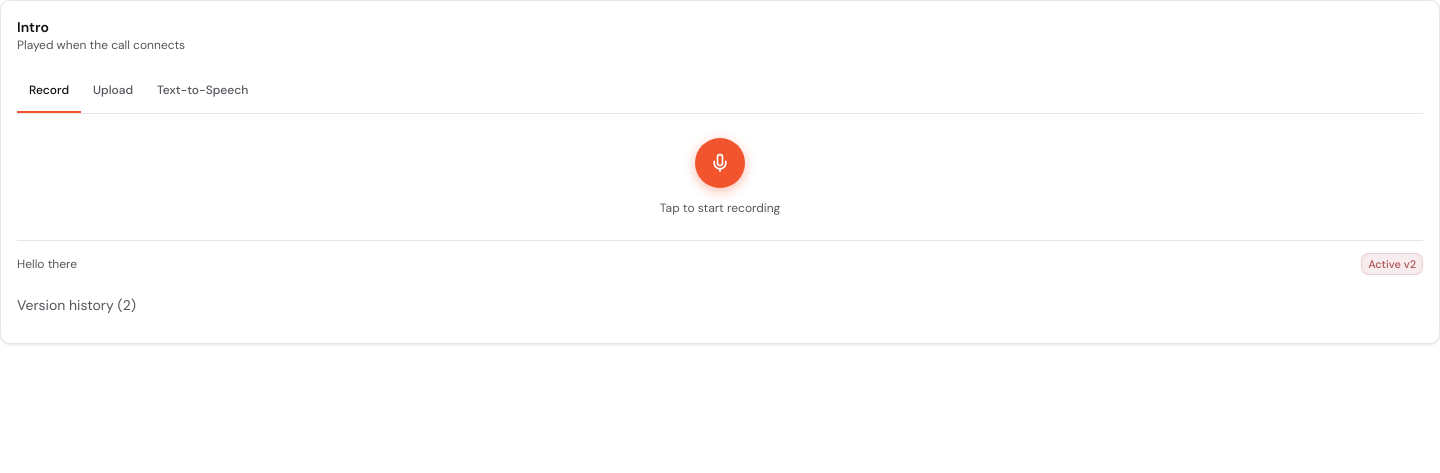
Scenario: AudioSlotCard — live campaign › reports the server's own reason when activation is refused
The width and height of the screenshot is (1440, 473).
Click the button "Version history (2)" at (76, 305), box [17,283,136,327]
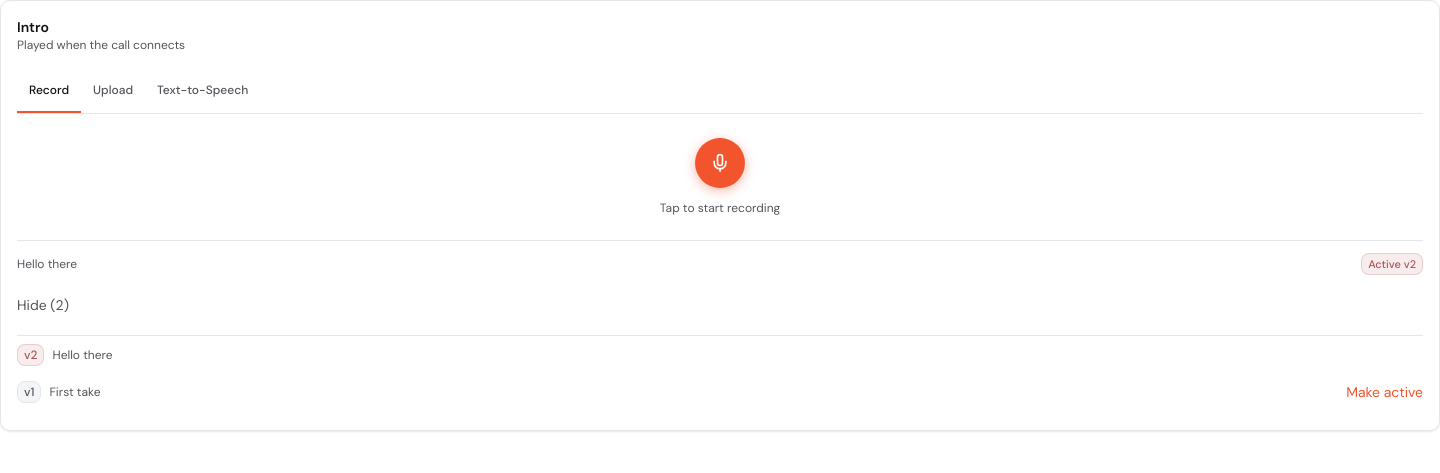
Click the button "Make active" at (1385, 392), box [1346,370,1423,414]
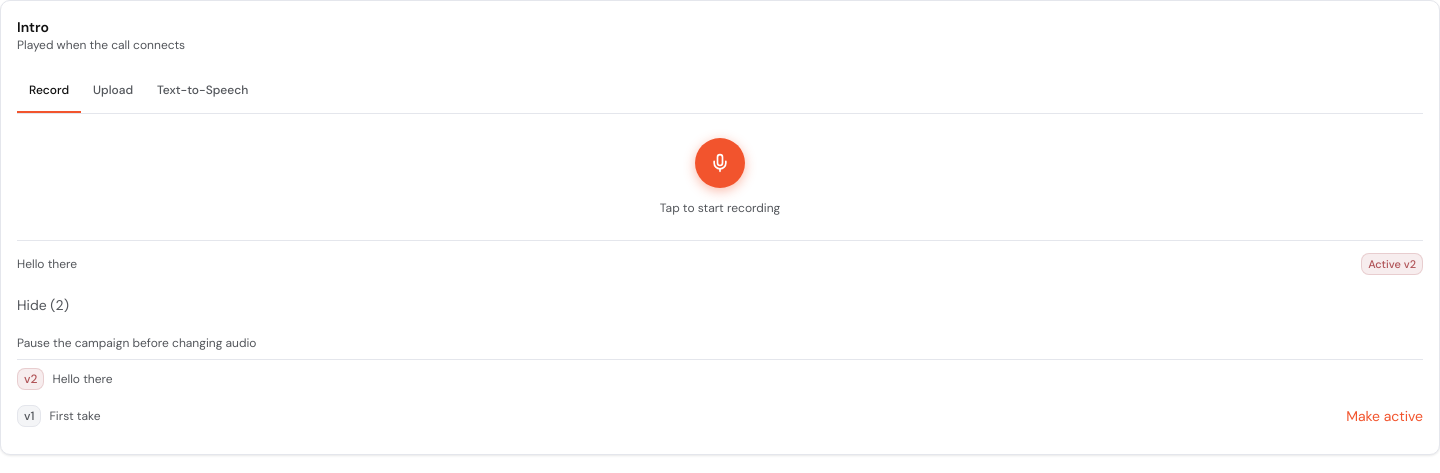
Expected: the text "Pause the campaign before changing audio" is shown, [17,335,256,351]
